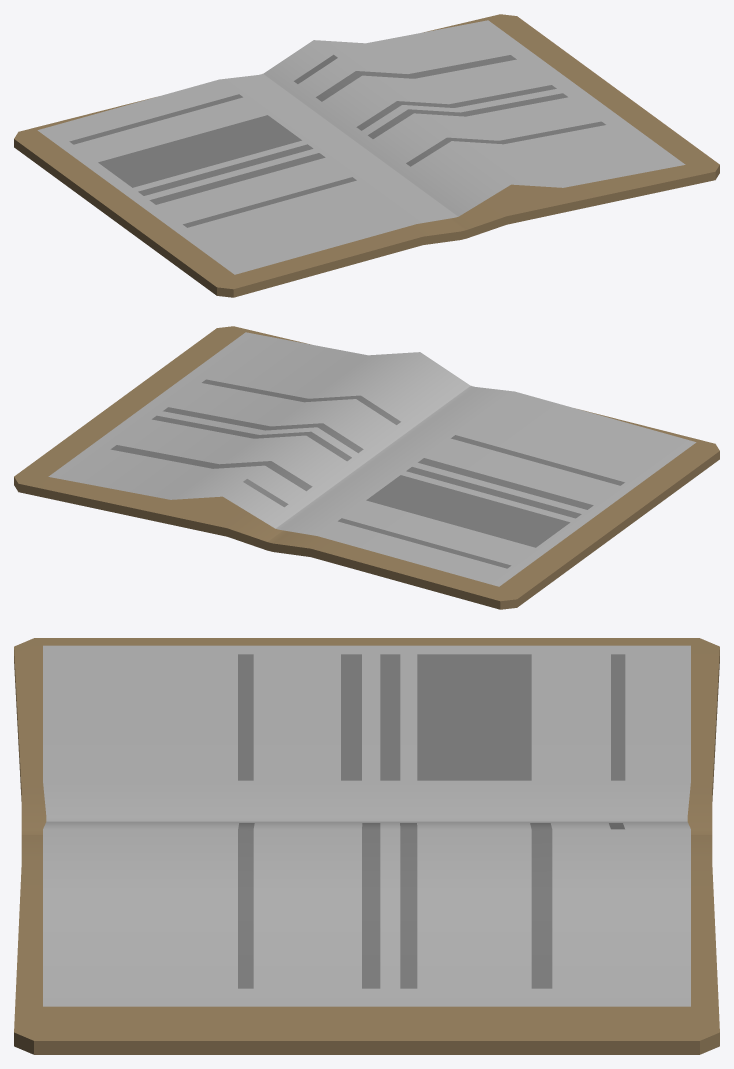
Rendered from model_book_open.fbx.
3 renders of one model, top to bottom at view 1: azimuth 30°, elevation 25°; view 2: azimuth 150°, elevation 25°; view 3: azimuth 270°, elevation 25°, orthographic. The views are drawn at different scales.
Visible parts, largest first — view 1: model_book_open; view 2: model_book_open; view 3: model_book_open.
Boxes of the visible parts, <box> form: model_book_open: <box>14,14,719,297</box>; model_book_open: <box>14,326,719,609</box>; model_book_open: <box>14,638,719,1054</box>.
Size of the model in its own units: 108 by 7.56 by 79.92.
1 material, 1 textured.
